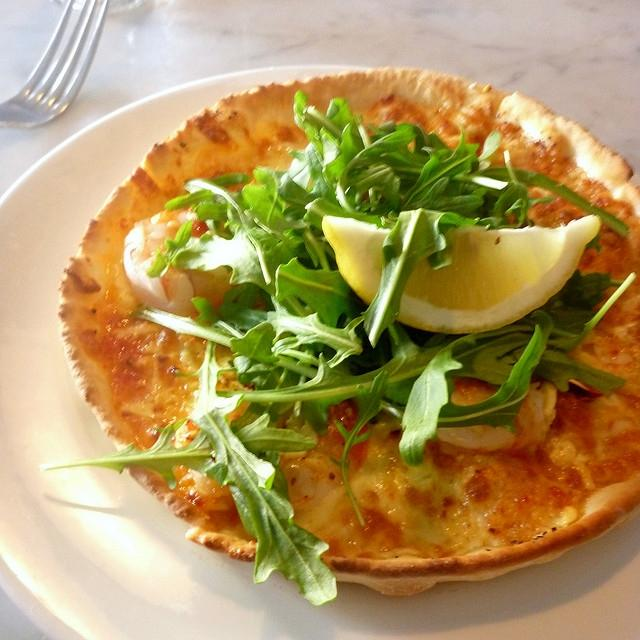lemon: (322, 214, 602, 334)
lettuce: (398, 272, 636, 468), (173, 339, 337, 606), (241, 322, 464, 437), (361, 176, 484, 348), (437, 308, 556, 434), (172, 225, 310, 316), (39, 424, 218, 491), (184, 178, 279, 286), (331, 371, 388, 525), (266, 293, 364, 368), (276, 256, 368, 328), (337, 130, 417, 212), (400, 125, 479, 208), (242, 166, 309, 248), (534, 349, 627, 397), (550, 270, 624, 312), (320, 122, 366, 189), (489, 151, 528, 226), (229, 322, 280, 364), (293, 92, 324, 160), (380, 147, 430, 185), (210, 320, 246, 338)
